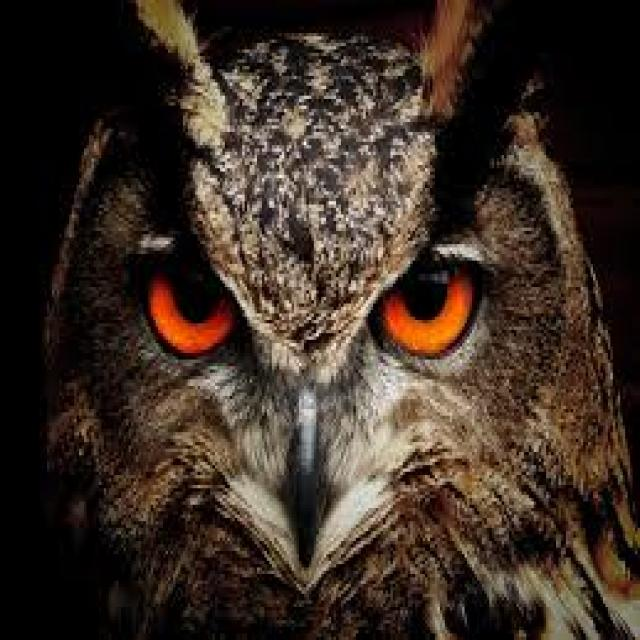Owl: (47, 28, 640, 640)
